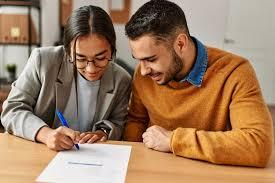Persons: (123, 0, 209, 88), (56, 4, 123, 84)
